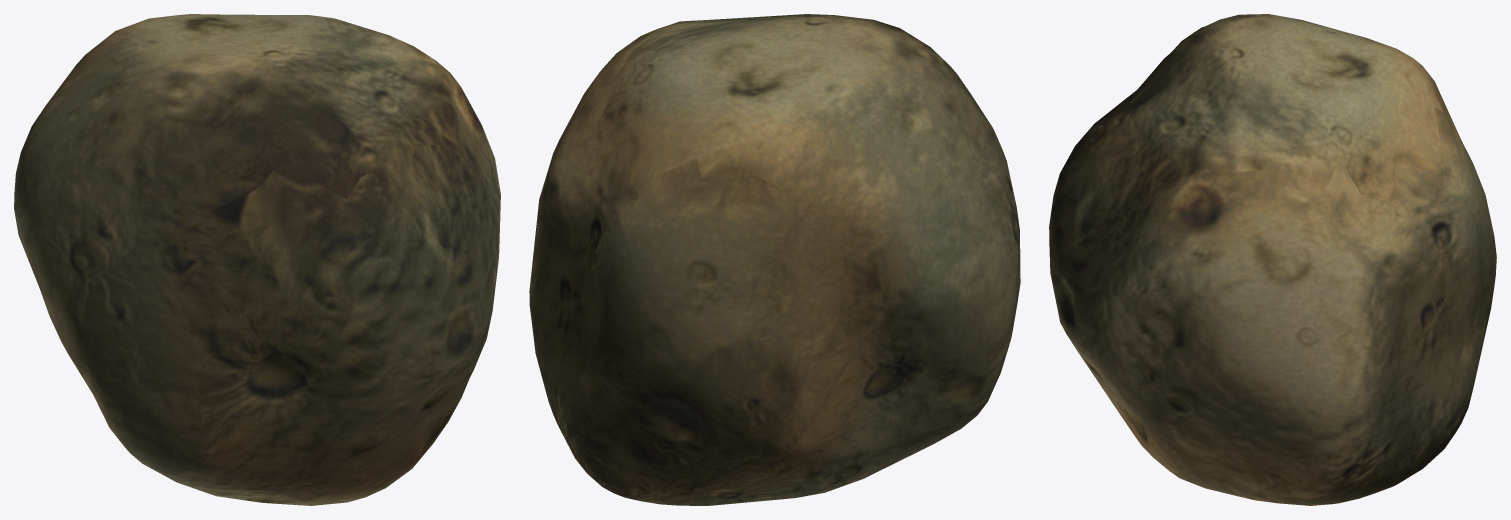
Rendered from astroid_1.obj.
3 views of the same model, side by side, from view 1: azimuth 30°, elevation 25°; view 2: azimuth 150°, elevation 25°; view 3: azimuth 270°, elevation 25° (orthographic). The views are drawn at different scales.
Parts seen in each view (by area): view 1: 10464_Asteroid_v1_Iterations-2; view 2: 10464_Asteroid_v1_Iterations-2; view 3: 10464_Asteroid_v1_Iterations-2.
Part boxes in pixels (x1,y1,x2,y2): 10464_Asteroid_v1_Iterations-2: (14, 14, 500, 505); 10464_Asteroid_v1_Iterations-2: (529, 14, 1020, 505); 10464_Asteroid_v1_Iterations-2: (1049, 14, 1496, 505).
Size of the model in its own units: 4.07 by 4.13 by 4.11.
